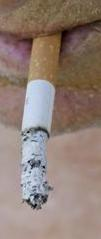smoke: (21, 14, 66, 211)
